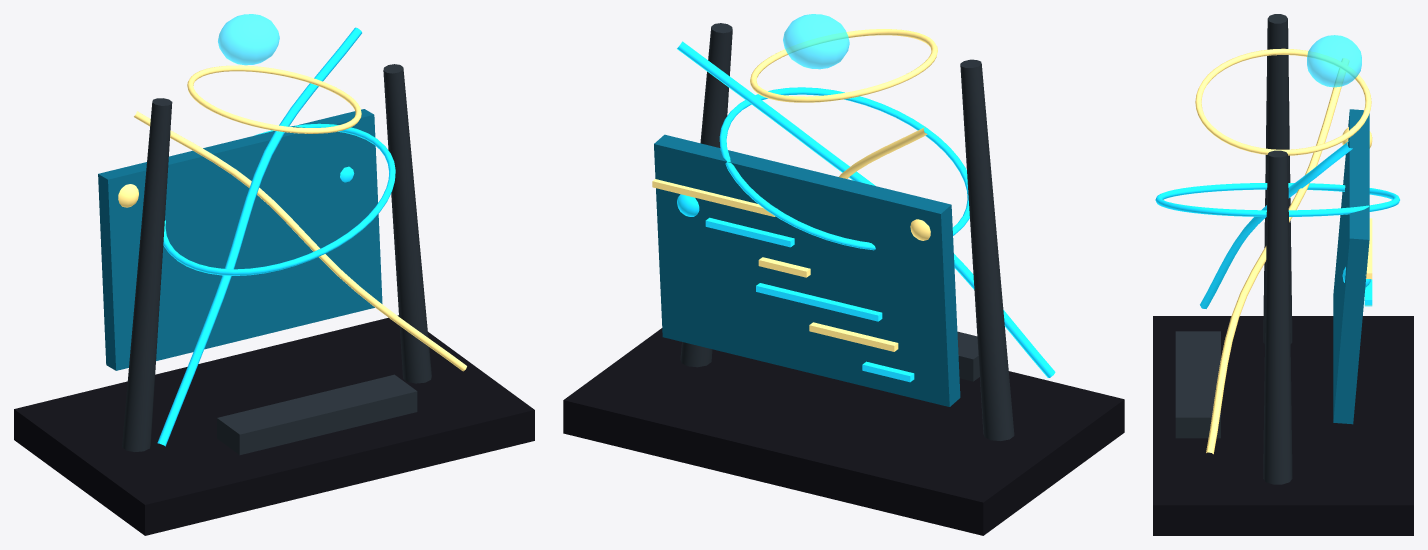
File: observability-signal-spire.glb
3 renders of one model, left to right at view 1: azimuth 30°, elevation 25°; view 2: azimuth 150°, elevation 25°; view 3: azimuth 270°, elevation 25°, orthographic. The views are drawn at different scales.
Visible parts, largest first — view 1: relay-service-pad, relay-trace-wall, relay-left-uplink, relay-metric-stack, relay-right-uplink, relay-trace-primary, relay-trace-secondary, relay-scan-orbit-low, relay-scan-orbit-high, relay-correlation-node; view 2: relay-service-pad, relay-trace-wall, relay-left-uplink, relay-scan-orbit-low, relay-trace-primary, relay-right-uplink, relay-correlation-node, relay-scan-orbit-high, relay-log-line-2, relay-log-line-5, relay-metric-stack, relay-log-line-1 (+2 smaller); view 3: relay-service-pad, relay-right-uplink, relay-trace-wall, relay-metric-stack, relay-left-uplink, relay-trace-secondary, relay-scan-orbit-low, relay-scan-orbit-high, relay-correlation-node, relay-trace-primary.
Part boxes in pixels (left/top/right/bottom): relay-service-pad: left=14, top=315, right=534, bottom=535; relay-trace-wall: left=98, top=109, right=382, bottom=370; relay-left-uplink: left=122, top=98, right=172, bottom=451; relay-metric-stack: left=217, top=374, right=417, bottom=454; relay-right-uplink: left=383, top=64, right=431, bottom=383; relay-trace-primary: left=157, top=27, right=361, bottom=446; relay-trace-secondary: left=134, top=111, right=466, bottom=371; relay-scan-orbit-low: left=163, top=123, right=395, bottom=275; relay-scan-orbit-high: left=187, top=65, right=361, bottom=133; relay-correlation-node: left=218, top=14, right=279, bottom=65; relay-service-pad: left=563, top=328, right=1124, bottom=535; relay-trace-wall: left=654, top=134, right=960, bottom=406; relay-left-uplink: left=960, top=59, right=1014, bottom=440; relay-scan-orbit-low: left=719, top=87, right=969, bottom=250; relay-trace-primary: left=677, top=41, right=1055, bottom=377; relay-right-uplink: left=680, top=23, right=732, bottom=367; relay-correlation-node: left=783, top=14, right=849, bottom=69; relay-scan-orbit-high: left=750, top=29, right=937, bottom=102; relay-log-line-2: left=756, top=283, right=882, bottom=321; relay-log-line-5: left=652, top=179, right=775, bottom=216; relay-metric-stack: left=957, top=331, right=979, bottom=381; relay-log-line-1: left=809, top=322, right=898, bottom=351; relay-service-pad: left=1153, top=316, right=1413, bottom=535; relay-right-uplink: left=1263, top=150, right=1292, bottom=484; relay-trace-wall: left=1333, top=109, right=1369, bottom=424; relay-metric-stack: left=1175, top=331, right=1220, bottom=438; relay-left-uplink: left=1263, top=14, right=1292, bottom=343; relay-trace-secondary: left=1206, top=58, right=1349, bottom=454; relay-scan-orbit-low: left=1155, top=183, right=1399, bottom=216; relay-scan-orbit-high: left=1195, top=48, right=1371, bottom=155; relay-correlation-node: left=1307, top=35, right=1361, bottom=87; relay-trace-primary: left=1200, top=140, right=1352, bottom=308.
Size of the model in its own units: 1.58 by 1.57 by 0.92.
